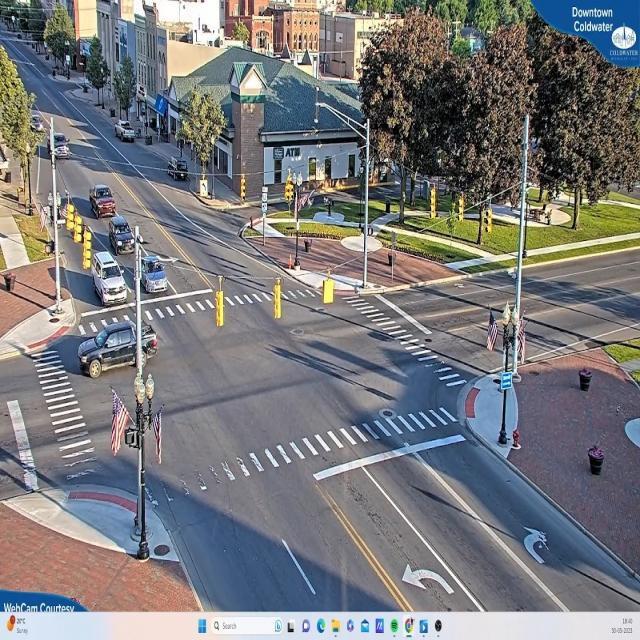car: (78, 313, 159, 378), (92, 250, 126, 305), (141, 256, 172, 297), (88, 186, 117, 218), (110, 218, 135, 253), (51, 131, 69, 160), (116, 122, 135, 142)
